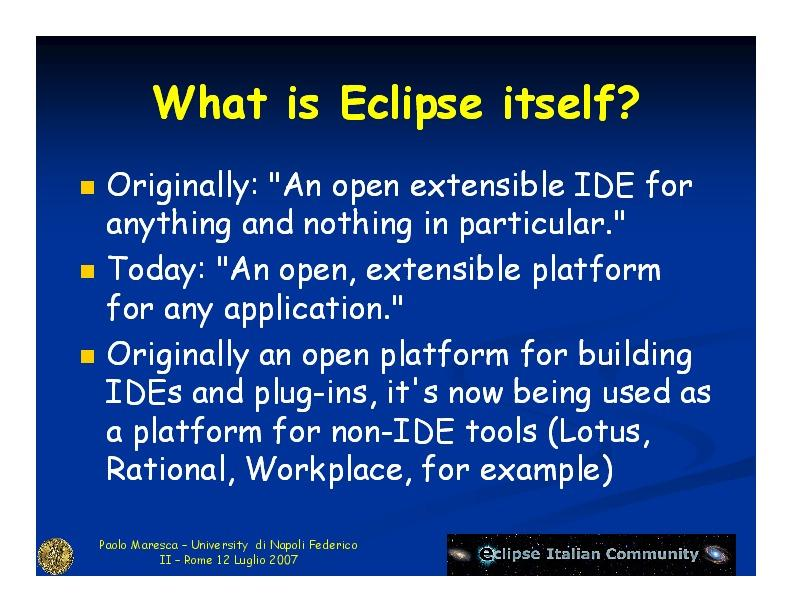paragraph: (68, 163, 728, 500)
subtitle: (83, 518, 750, 592)
title: (146, 72, 640, 141)
